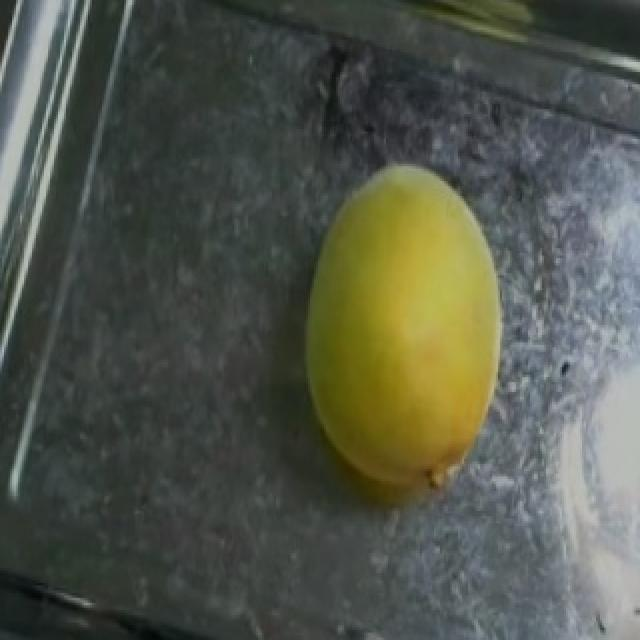fruit: (266, 136, 578, 518)
